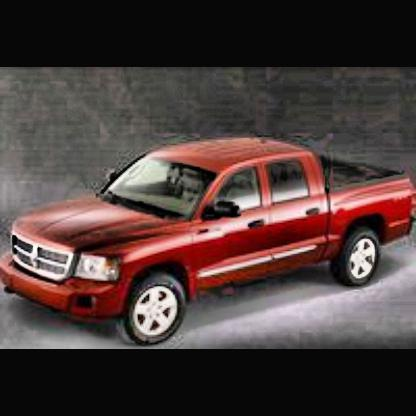Dodge Dakota Crew Cab 2010: (6, 135, 416, 349)
